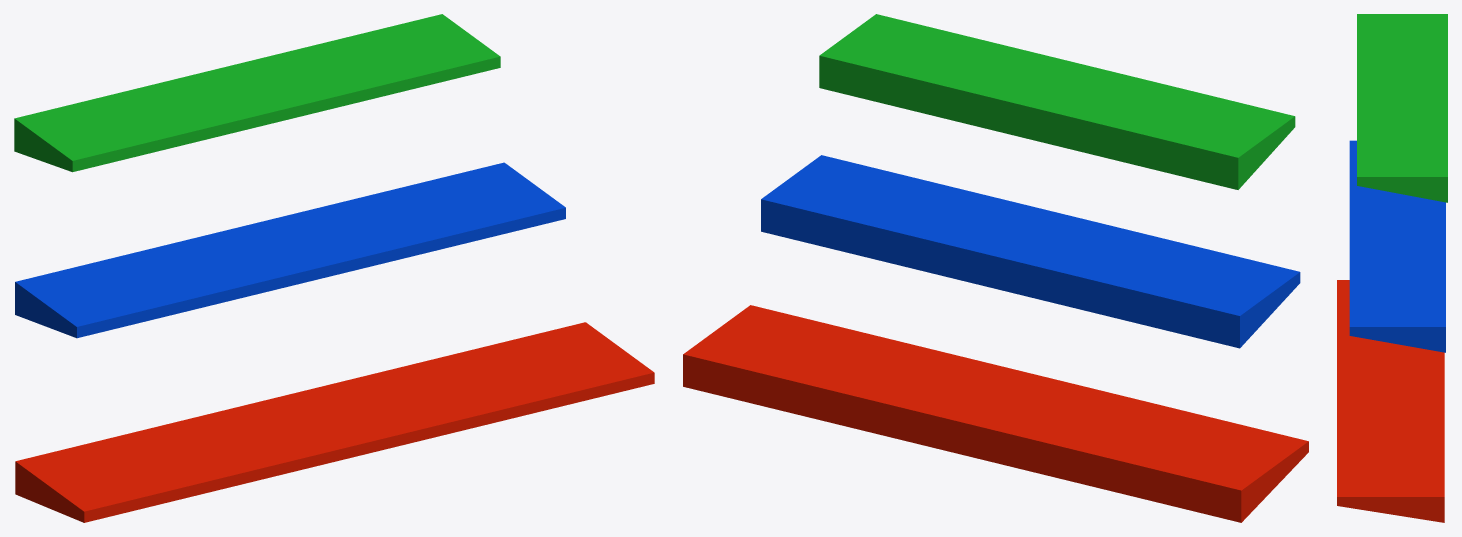
The model's file is shelves.fbx.
3 views of the same model, side by side, from view 1: azimuth 30°, elevation 25°; view 2: azimuth 150°, elevation 25°; view 3: azimuth 270°, elevation 25° (orthographic). The views are drawn at different scales.
Parts seen in each view (by area): view 1: shelf2, blueshelf, greenSHelf; view 2: shelf2, blueshelf, greenSHelf; view 3: shelf2, greenSHelf, blueshelf.
Part boxes in pixels (x1,y1,x2,y2): shelf2: [15, 322, 654, 522]; blueshelf: [15, 162, 565, 338]; greenSHelf: [14, 14, 500, 172]; shelf2: [683, 305, 1308, 522]; blueshelf: [761, 155, 1300, 348]; greenSHelf: [819, 14, 1295, 189]; shelf2: [1337, 280, 1444, 522]; greenSHelf: [1357, 14, 1447, 202]; blueshelf: [1349, 140, 1445, 352].
Size of the model in its own units: 4.76 by 2.98 by 1.02.
